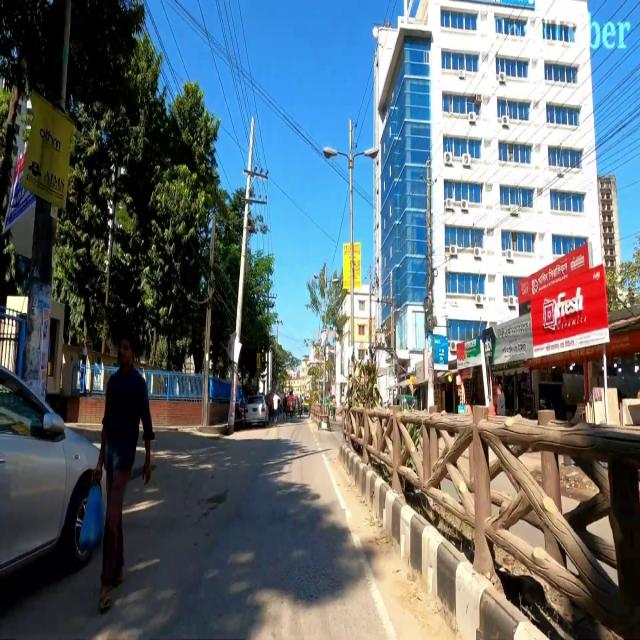silver: (0, 344, 105, 576)
white: (244, 393, 269, 425)
